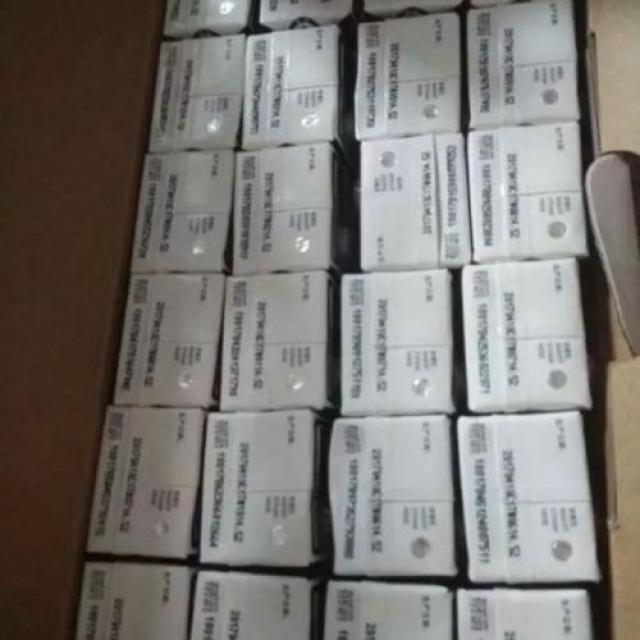box: (458, 412, 602, 581), (328, 417, 460, 575), (462, 259, 593, 411), (200, 413, 329, 561), (88, 407, 202, 561), (230, 140, 356, 275), (467, 124, 588, 261), (221, 271, 337, 410), (343, 271, 456, 413), (113, 274, 224, 407), (360, 133, 468, 268), (468, 0, 579, 131), (357, 13, 460, 140), (133, 146, 234, 274), (244, 24, 342, 147), (151, 36, 244, 154), (78, 566, 196, 639), (193, 572, 324, 637), (328, 581, 453, 639), (458, 589, 591, 639), (165, 0, 248, 37), (259, 0, 349, 27)
